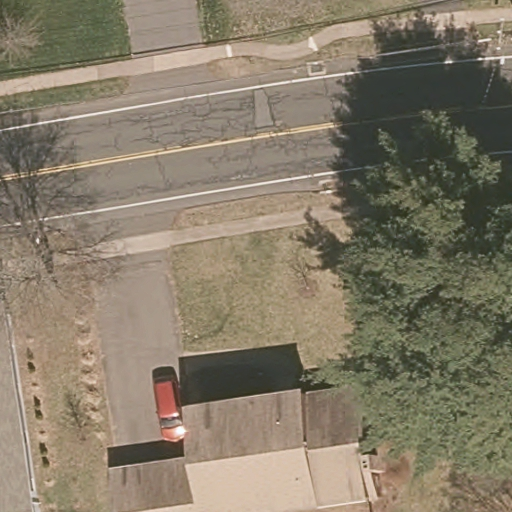DT: (477, 18, 512, 66)
